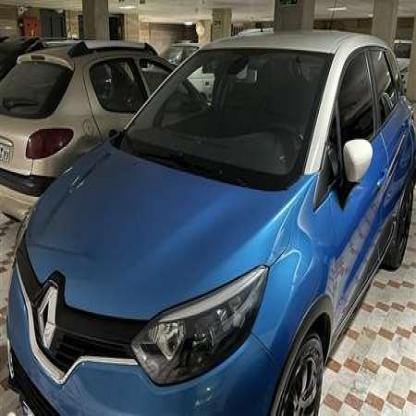Car: (8, 32, 416, 416), (0, 24, 184, 192)
